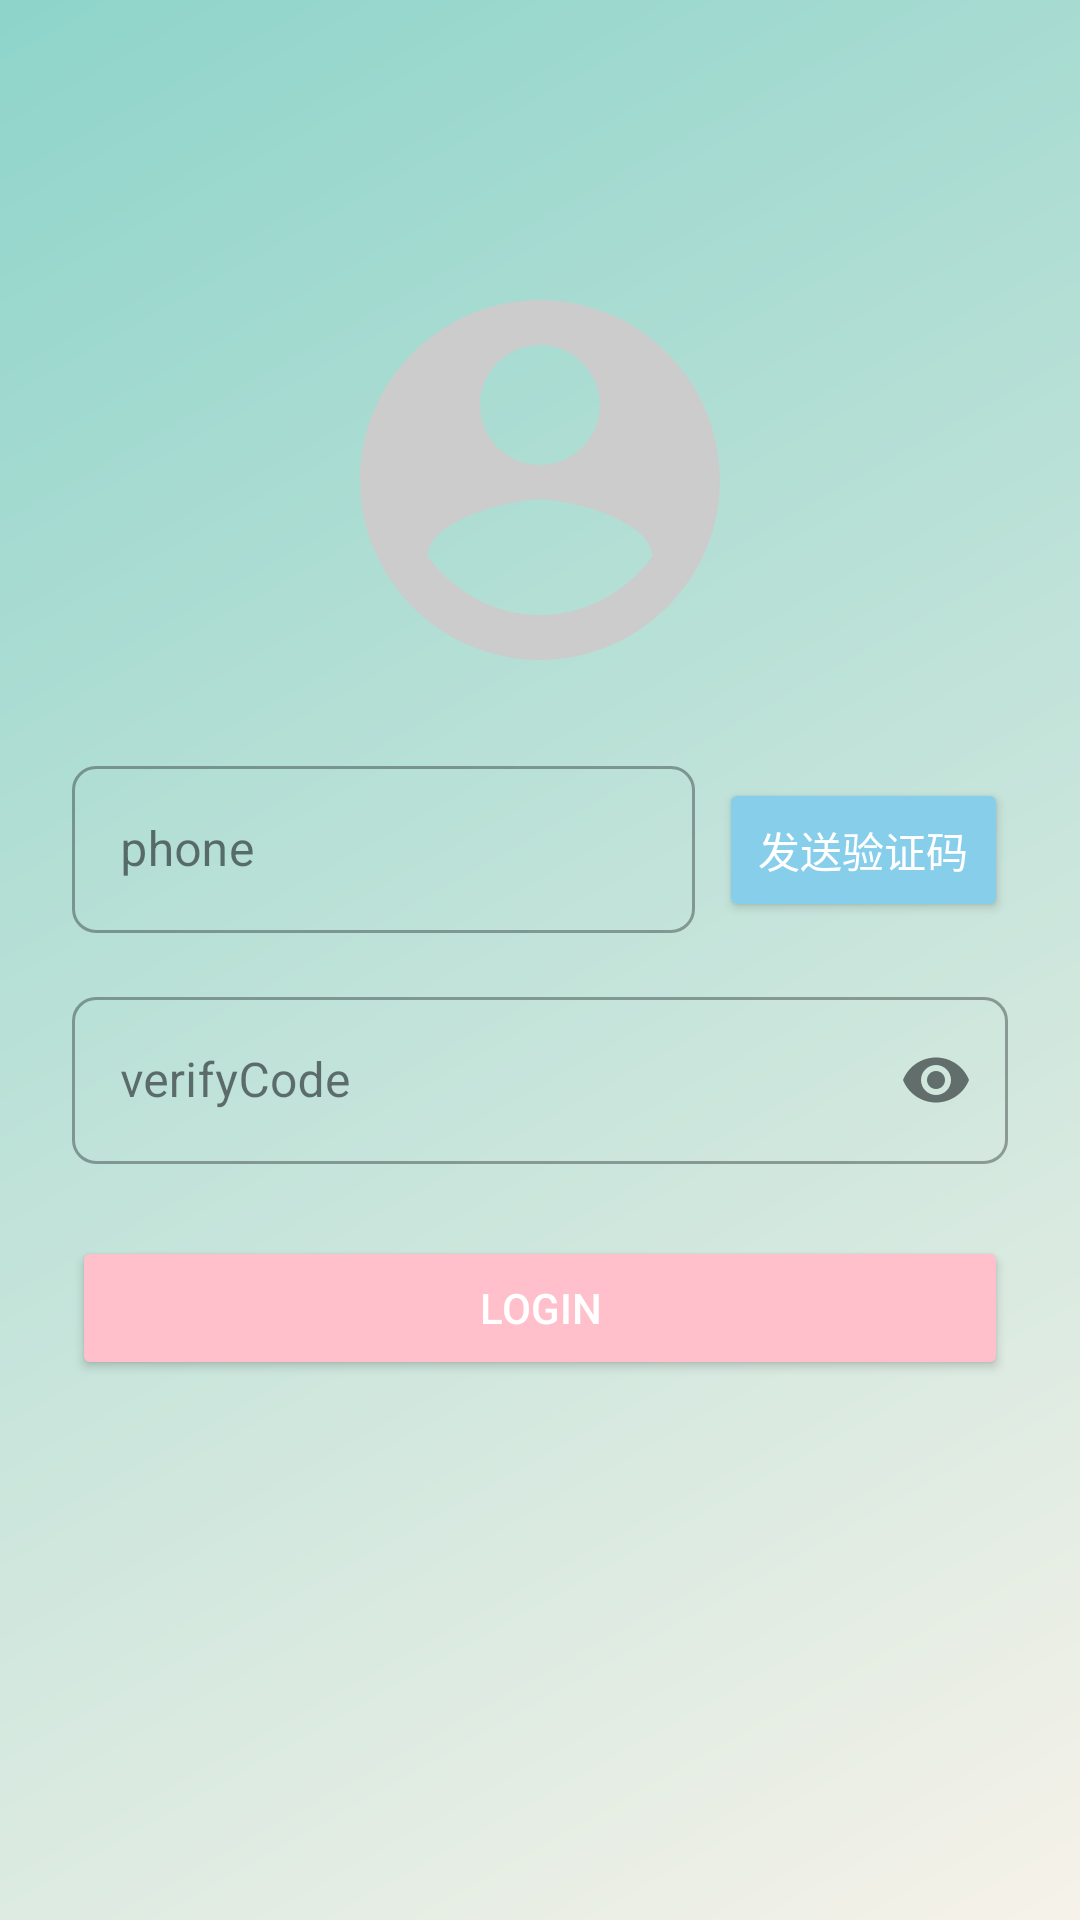

Where icons sit on this 1080 × 1920 app screen, as (x1, y1, x2, y2):
profile: (360, 300, 720, 660)
